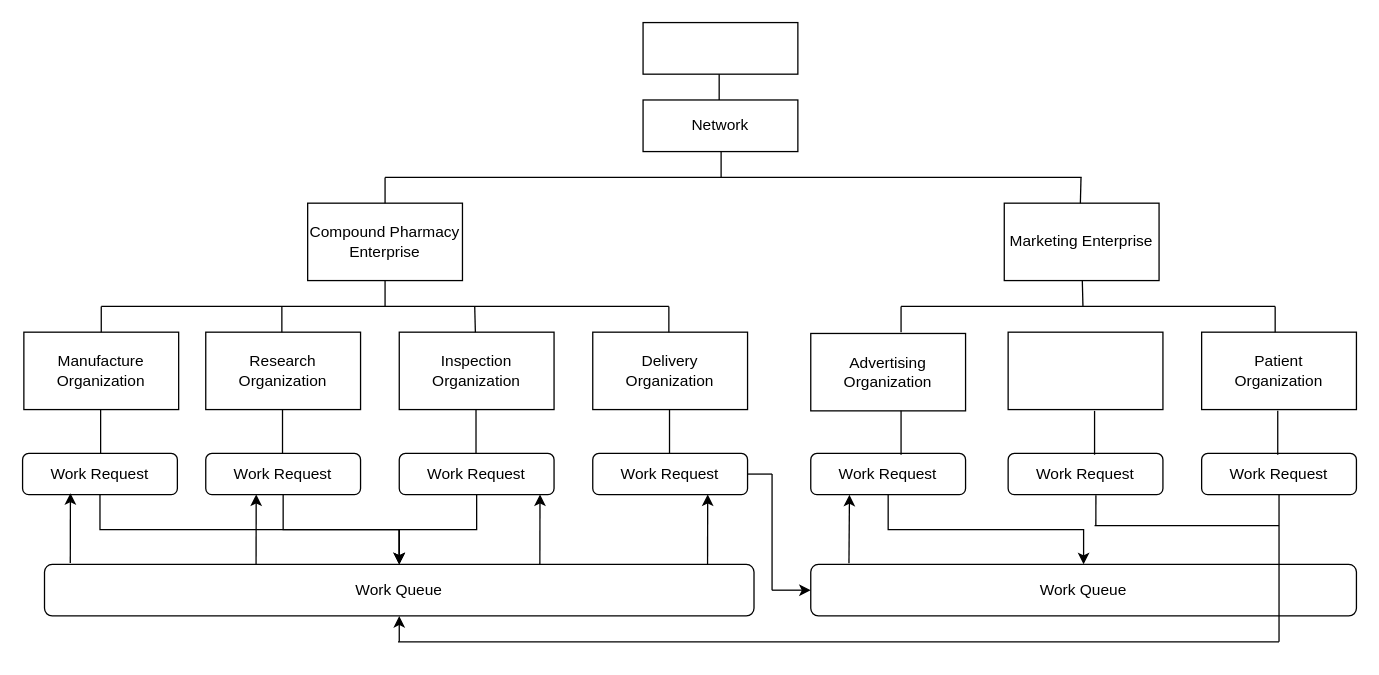
Image size: 1379x675. Some labels were removed from this diagram. Here are the shapes that lost their labels. From the top down, the box of each, then its label:
(642, 21, 798, 74): Ecosystem
(1007, 331, 1163, 410): Doctor Organization
